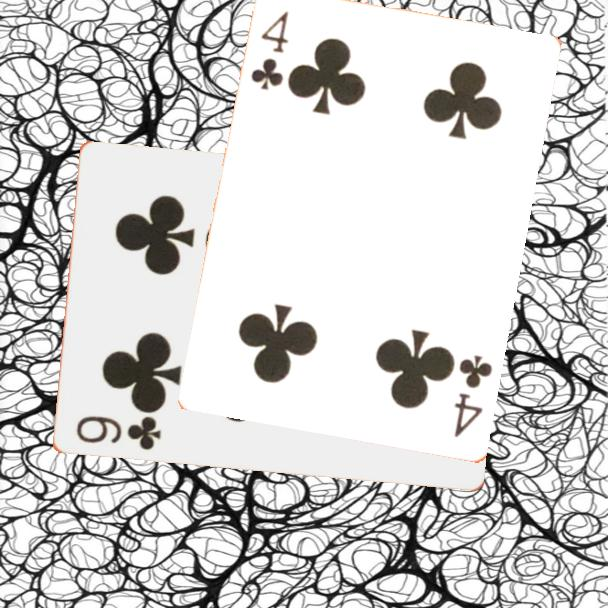c04: (451, 352, 496, 441), (247, 8, 292, 94)
c09: (72, 412, 164, 454)
